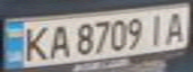0: (109, 16, 130, 52)
7: (90, 18, 112, 54)
8: (72, 19, 96, 56)
9: (124, 15, 148, 49)
A: (160, 7, 193, 44), (45, 21, 72, 60)
I: (145, 10, 172, 46)
K: (18, 22, 51, 63)
